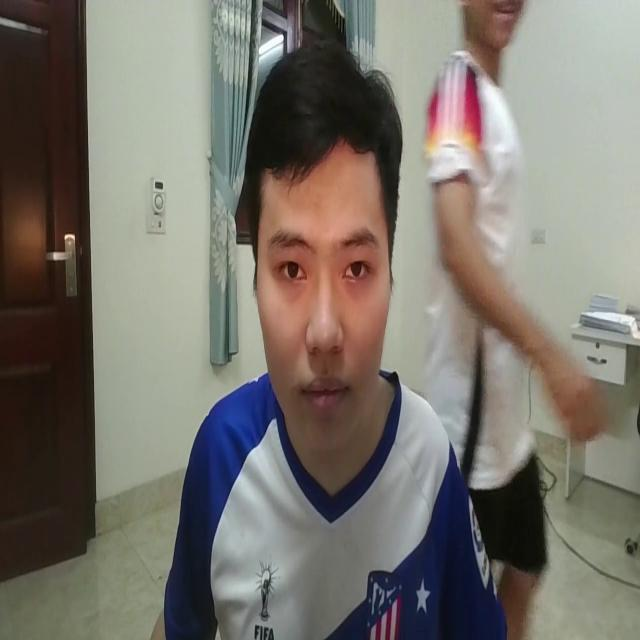extra_person: (403, 0, 613, 640)
student: (134, 37, 516, 640)
